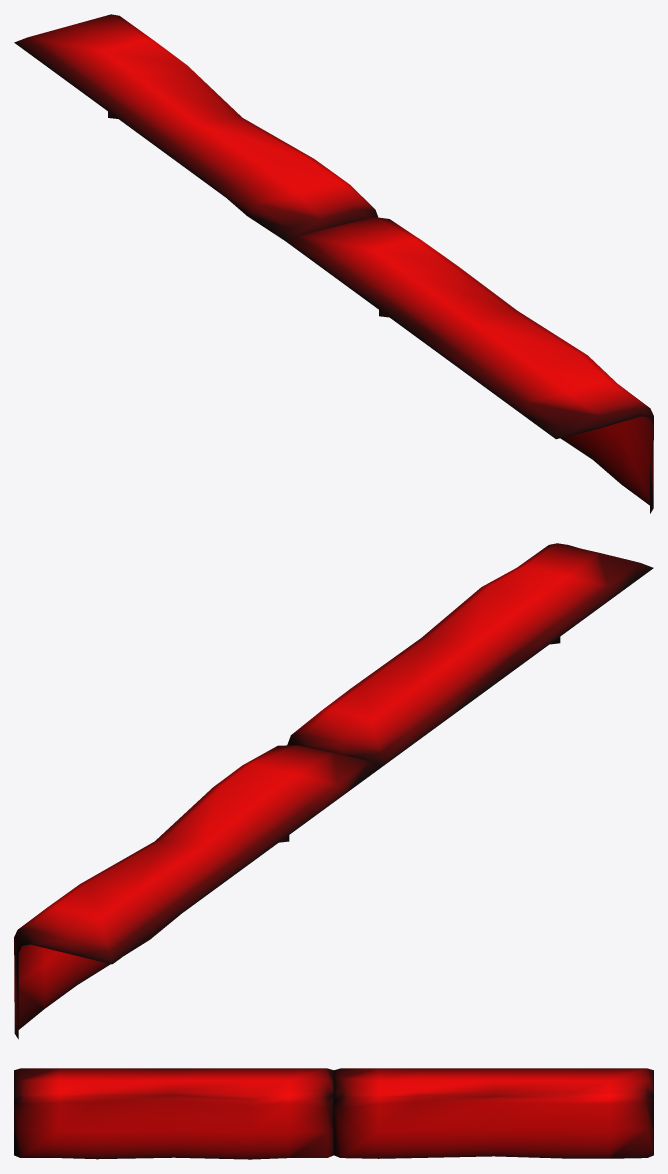
File: curb_2_b.fbx
3 renders of one model, top to bottom at view 1: azimuth 30°, elevation 25°; view 2: azimuth 150°, elevation 25°; view 3: azimuth 270°, elevation 25°, orthographic. The views are drawn at different scales.
Parts seen in each view (by area): view 1: curb_2_b; view 2: curb_2_b; view 3: curb_2_b.
Part boxes in pixels (<box>): curb_2_b: <box>14,14,653,513</box>; curb_2_b: <box>14,543,653,1039</box>; curb_2_b: <box>14,1068,653,1159</box>.
Size of the model in its own units: 0.2311 by 0.2224 by 2.
